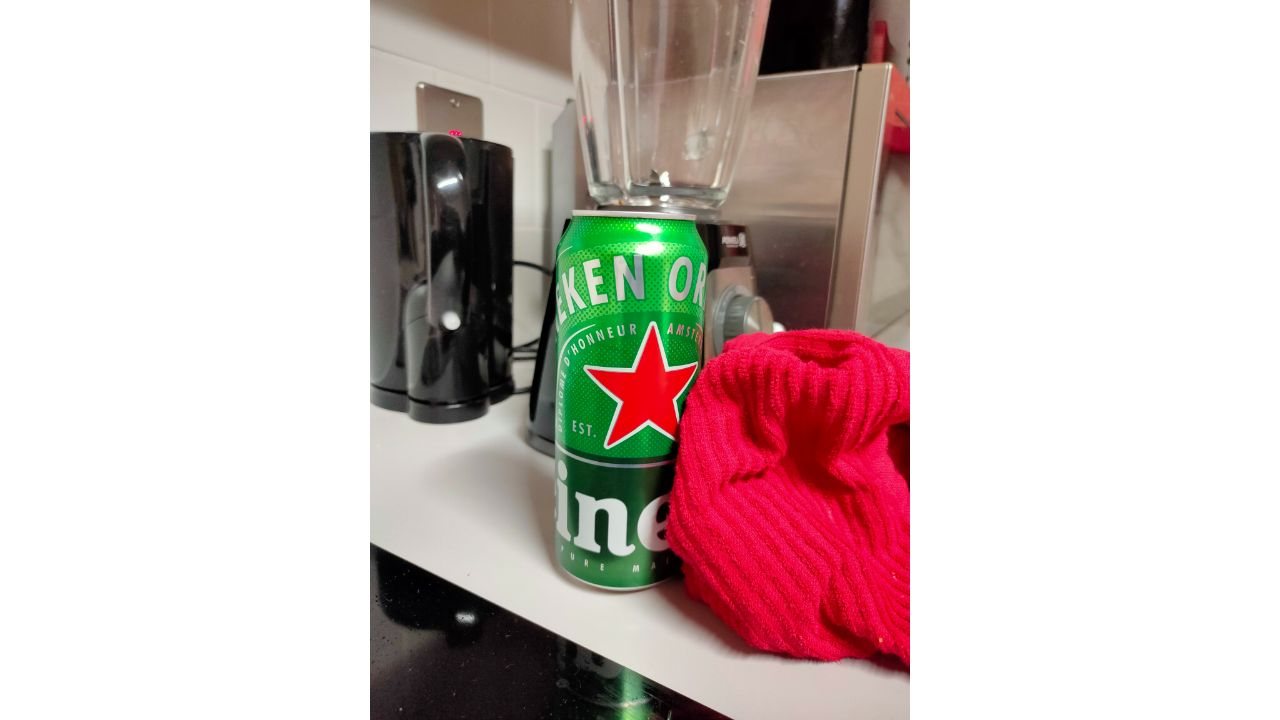Can: (553, 212, 714, 592)
